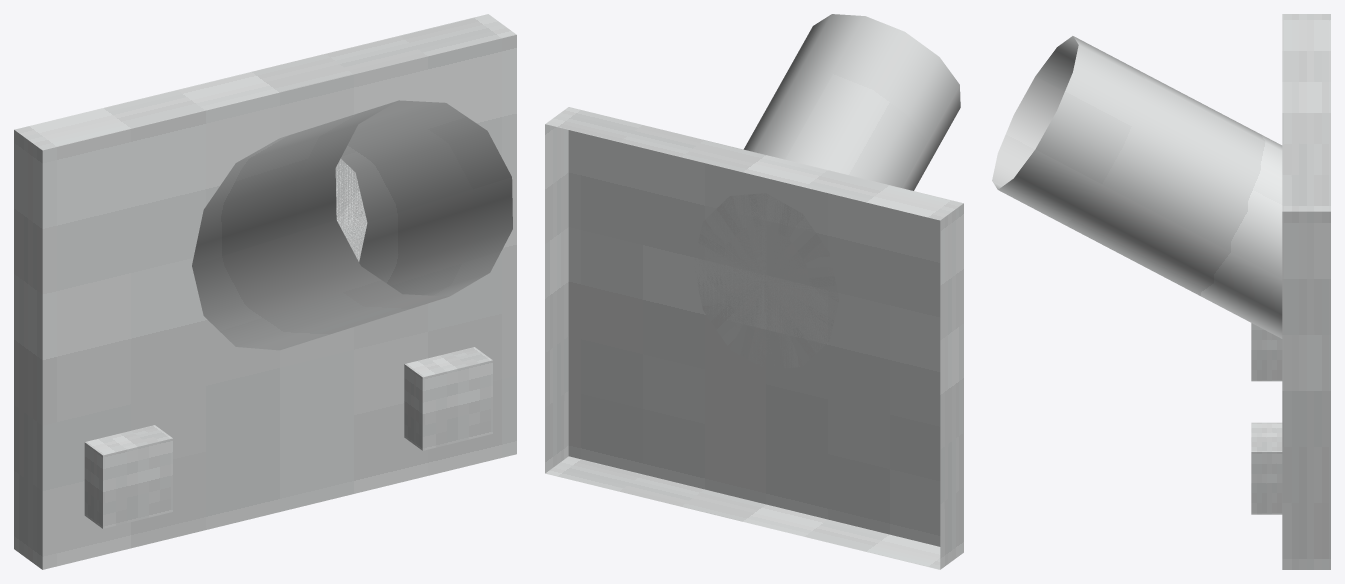
The model's file is luminairearm_truss12ftstraightdouble_c10_wall.obj.
The picture shows the model from 3 angles, left to right: view 1: azimuth 30°, elevation 25°; view 2: azimuth 150°, elevation 25°; view 3: azimuth 270°, elevation 25°; orthographic projection. The views are drawn at different scales.
Visible parts, largest first — view 1: luminairearm_truss12ftstraightdouble_c10_wall; view 2: luminairearm_truss12ftstraightdouble_c10_wall; view 3: luminairearm_truss12ftstraightdouble_c10_wall.
Boxes of the visible parts, x1,y1,x2,y2 form: luminairearm_truss12ftstraightdouble_c10_wall: [14, 14, 516, 569]; luminairearm_truss12ftstraightdouble_c10_wall: [545, 14, 963, 569]; luminairearm_truss12ftstraightdouble_c10_wall: [992, 14, 1330, 569].
Size of the model in its own units: 0.4222 by 0.4244 by 0.3059.
